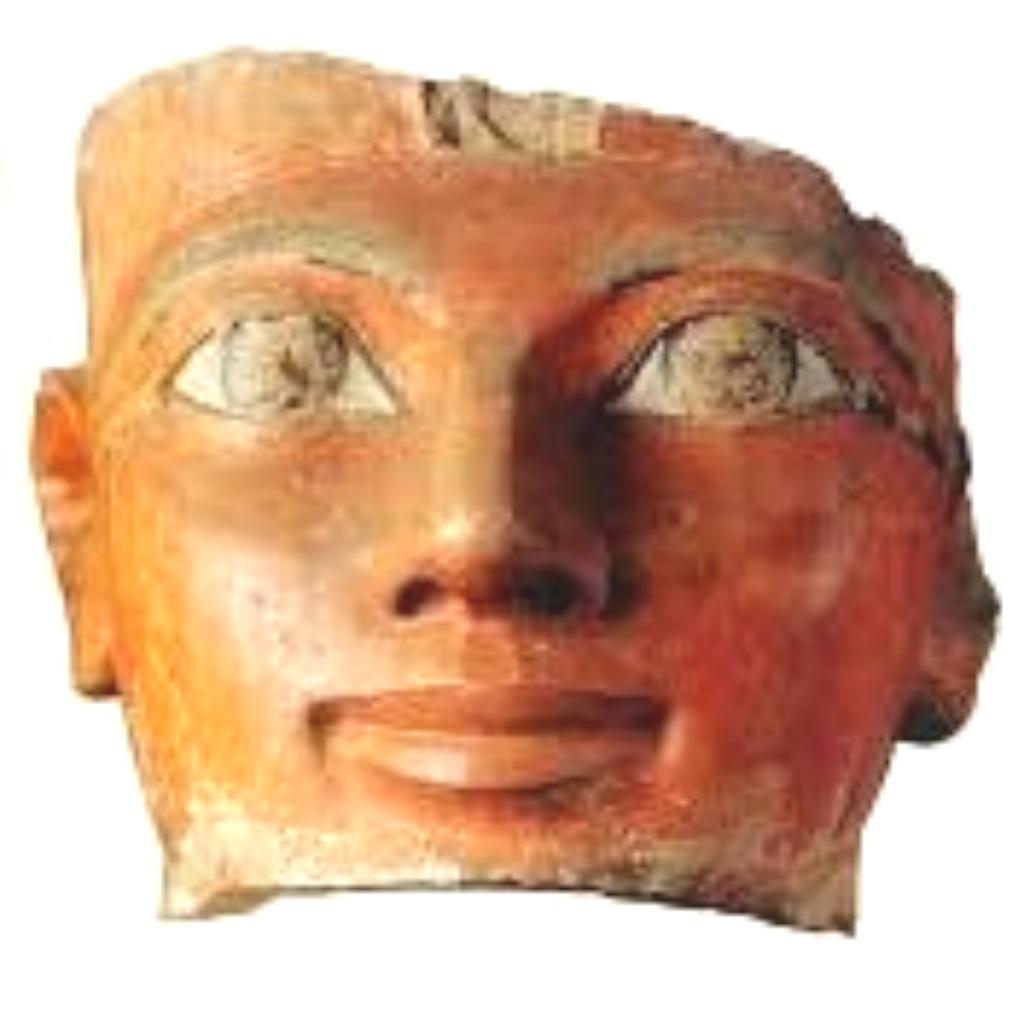Hatshepsut face: (24, 40, 1000, 932)
